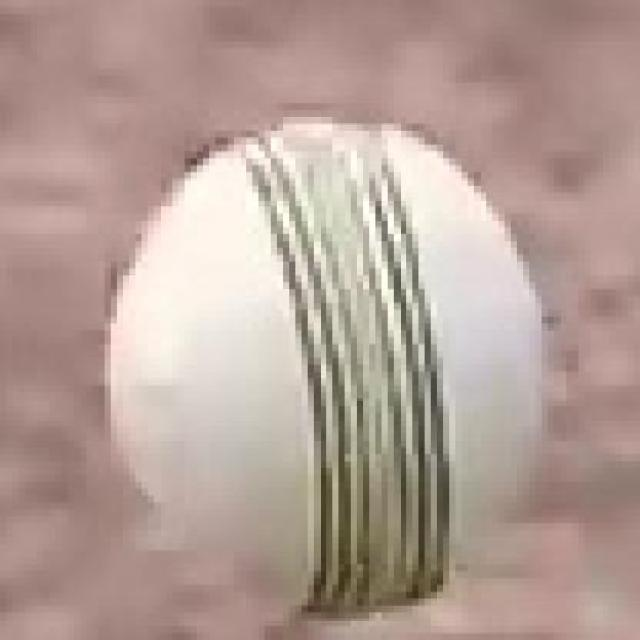Cricket ball: (93, 112, 549, 623)
